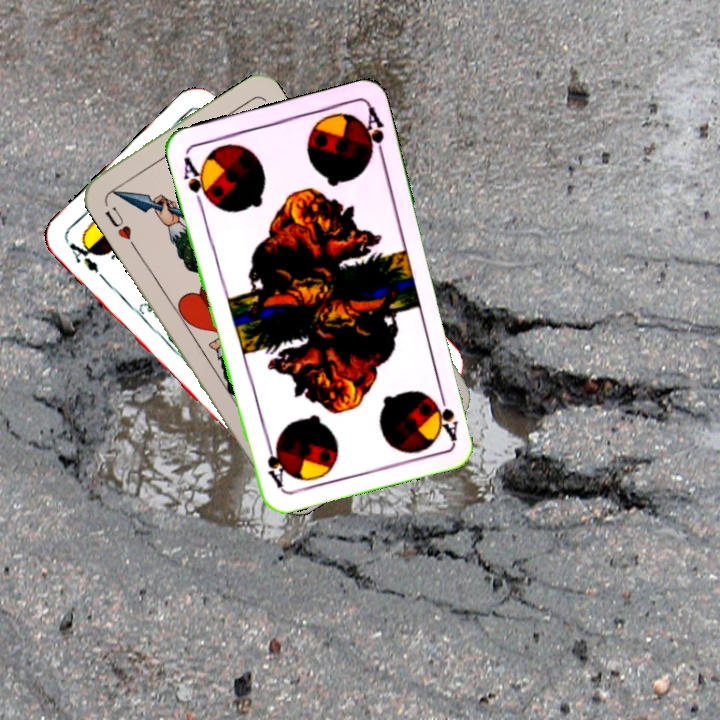EA: (65, 234, 102, 275)
HU: (100, 203, 134, 243)
SA: (179, 152, 214, 209), (430, 384, 461, 443)
